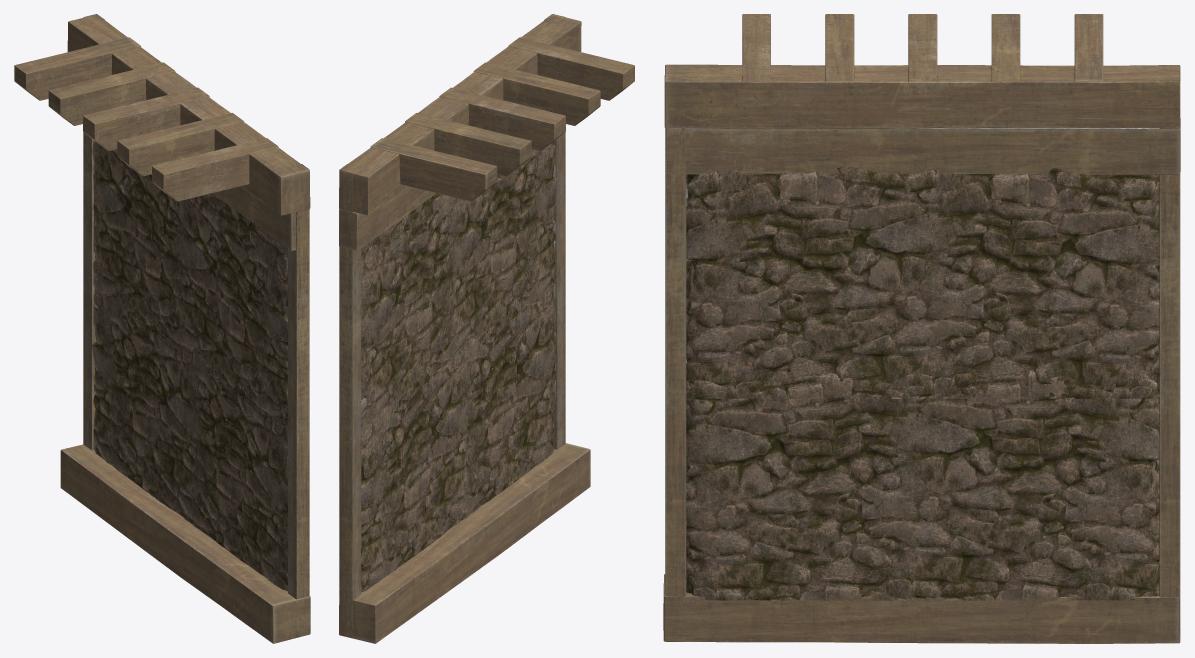
File: SM_Wall-Stone-A2.fbx
3 renders of one model, left to right at view 1: azimuth 30°, elevation 25°; view 2: azimuth 150°, elevation 25°; view 3: azimuth 270°, elevation 25°, orthographic. The views are drawn at different scales.
Visible parts, largest first — view 1: SM_Wall-Stone-A2_LOD0; view 2: SM_Wall-Stone-A2_LOD0; view 3: SM_Wall-Stone-A2_LOD0.
Part boxes in pixels (left/top/right/bottom): SM_Wall-Stone-A2_LOD0: left=14, top=14, right=310, bottom=643; SM_Wall-Stone-A2_LOD0: left=339, top=14, right=634, bottom=643; SM_Wall-Stone-A2_LOD0: left=663, top=14, right=1180, bottom=643.
Size of the model in its own units: 79.55 by 251 by 301.
Materials: 2 (2 with a texture image).
